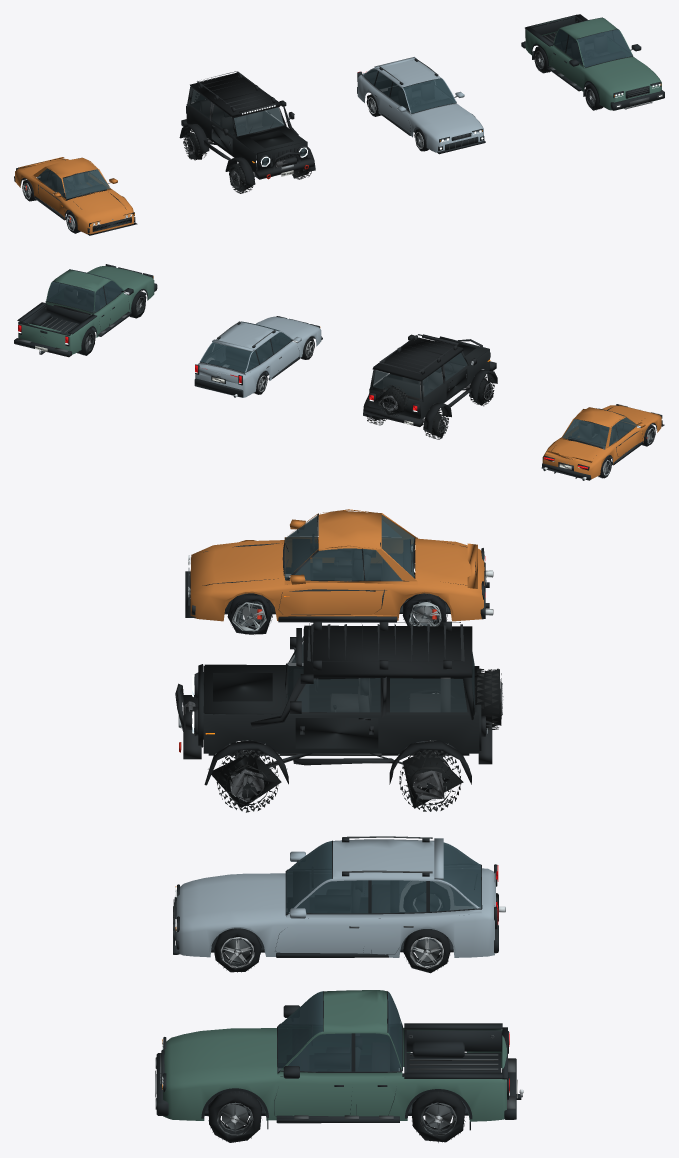
Rendered from parked_cars.glb.
The picture shows the model from 3 angles, top to bottom: view 1: azimuth 30°, elevation 25°; view 2: azimuth 150°, elevation 25°; view 3: azimuth 270°, elevation 25°; orthographic projection. The views are drawn at different scales.
Parts seen in each view (by area): view 1: ParkedJeep, ParkedPickup, ParkedWagon, ParkedAster; view 2: ParkedJeep, ParkedPickup, ParkedWagon, ParkedAster; view 3: ParkedJeep, ParkedPickup, ParkedWagon, ParkedAster.
Part boxes in pixels (<box>): ParkedJeep: <box>179,71,315,193</box>; ParkedPickup: <box>521,14,664,110</box>; ParkedWagon: <box>357,57,485,154</box>; ParkedAster: <box>14,157,137,235</box>; ParkedJeep: <box>363,334,497,439</box>; ParkedPickup: <box>14,264,157,357</box>; ParkedWagon: <box>194,316,322,397</box>; ParkedAster: <box>541,404,664,480</box>; ParkedJeep: <box>175,621,503,812</box>; ParkedPickup: <box>155,990,523,1142</box>; ParkedWagon: <box>173,836,505,973</box>; ParkedAster: <box>185,509,493,634</box>.
Size of the model in its own units: 20.28 by 2.31 by 5.56.
